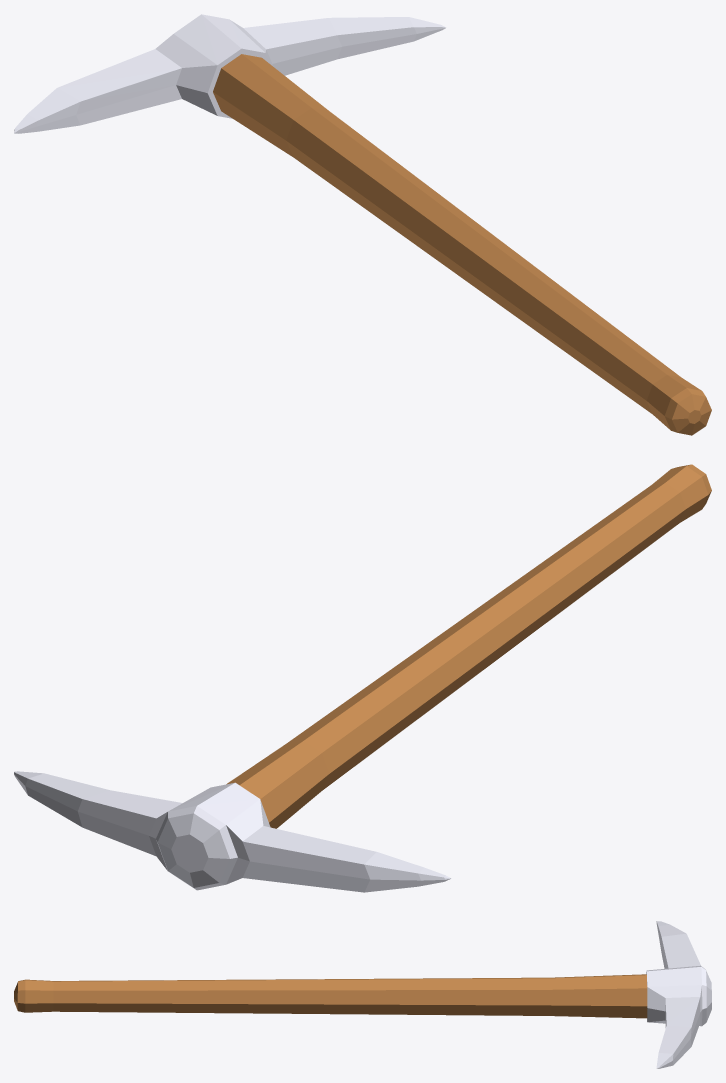
File: iron.gltf
3 renders of one model, top to bottom at view 1: azimuth 30°, elevation 25°; view 2: azimuth 150°, elevation 25°; view 3: azimuth 270°, elevation 25°, orthographic. The views are drawn at different scales.
Visible parts, largest first — view 1: imagetostl_mesh0; view 2: imagetostl_mesh0; view 3: imagetostl_mesh0.
Part boxes in pixels (x1,y1,x2,y2): imagetostl_mesh0: (14,14,711,435); imagetostl_mesh0: (14,464,711,892); imagetostl_mesh0: (14,921,711,1068).
Bounding box in the file's own units: 4.62 × 0.8544 × 9.26.
